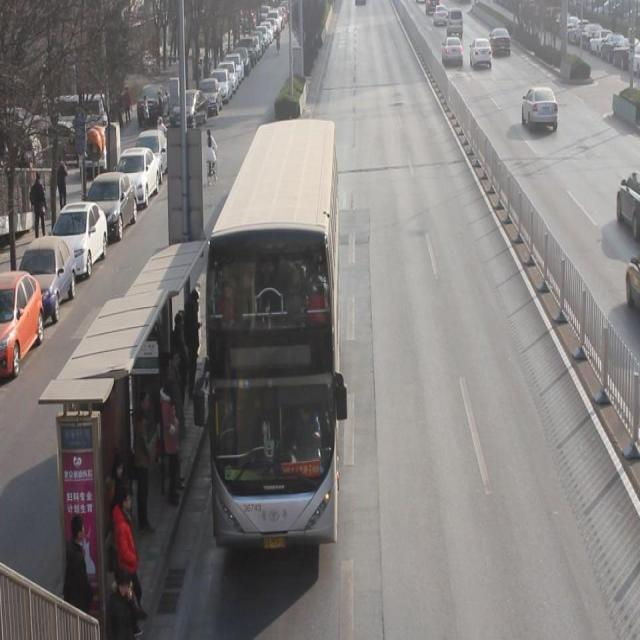car: (522, 85, 559, 133), (618, 174, 640, 229), (469, 37, 494, 72), (489, 28, 512, 61), (442, 37, 464, 70), (433, 7, 448, 27)
truck: (446, 10, 464, 39)
van: (205, 130, 338, 552)
